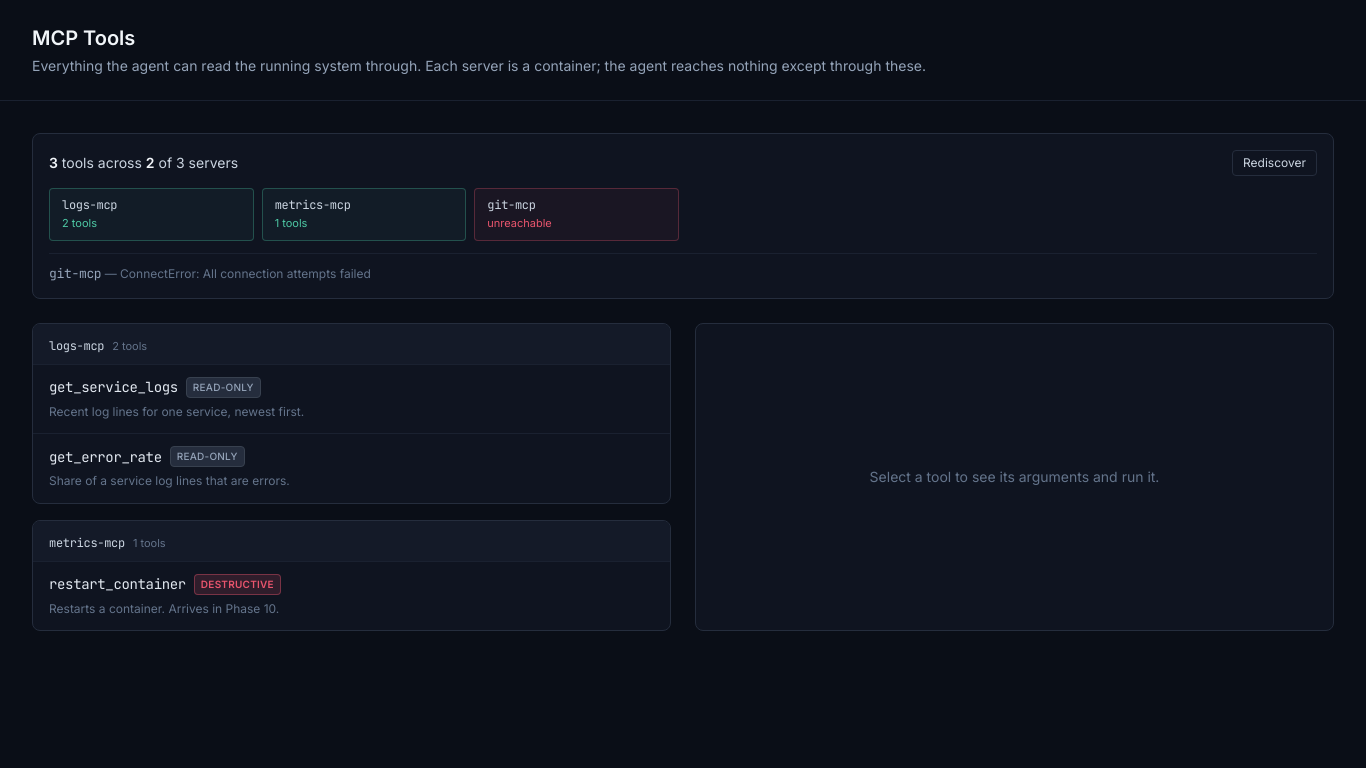
McpToolsPage › says a tool takes no arguments when its schema is empty
The width and height of the screenshot is (1366, 768).
Click the text "get_error_rate": {"x": 105, "y": 456} [49,446,162,466]
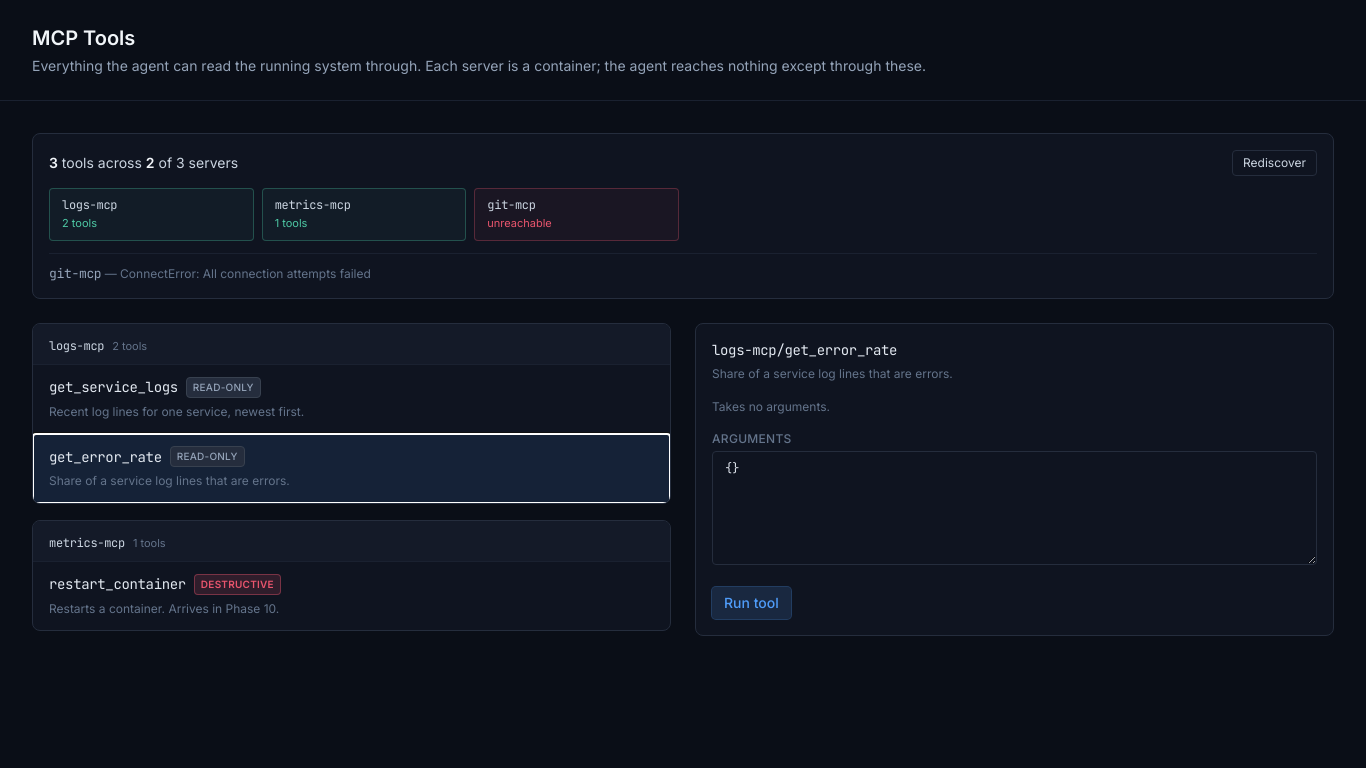
Expected: the text "Takes no arguments." is shown, [712,399,830,414]
